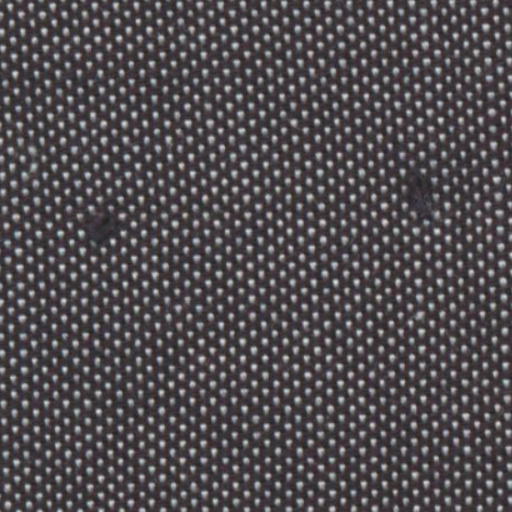MianQiu: (392, 150, 448, 231), (74, 198, 125, 258)
